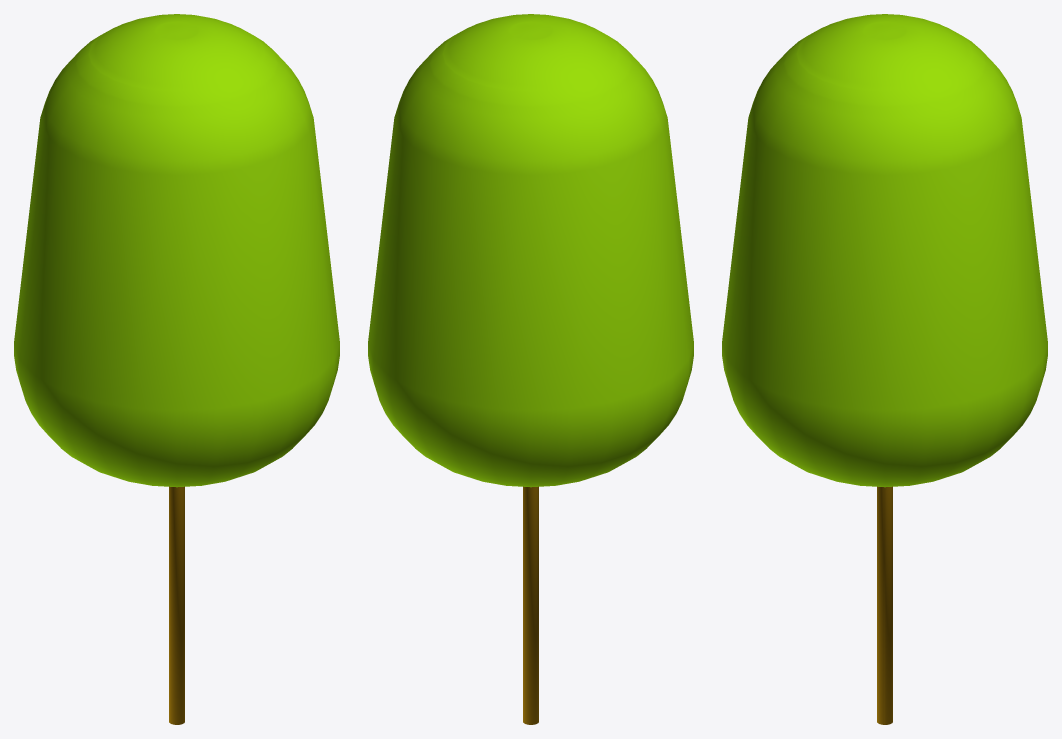
Rendered from HPS21m.glb.
3 views of the same model, side by side, from view 1: azimuth 30°, elevation 25°; view 2: azimuth 150°, elevation 25°; view 3: azimuth 270°, elevation 25° (orthographic).
Visible parts, largest first — view 1: HPS21m; view 2: HPS21m; view 3: HPS21m.
Boxes of the visible parts, x1,y1,x2,y2 form: HPS21m: (14, 14, 339, 724); HPS21m: (368, 14, 693, 724); HPS21m: (722, 14, 1047, 724).
Bounding box in the file's own units: 8.97 × 21 × 8.97.
